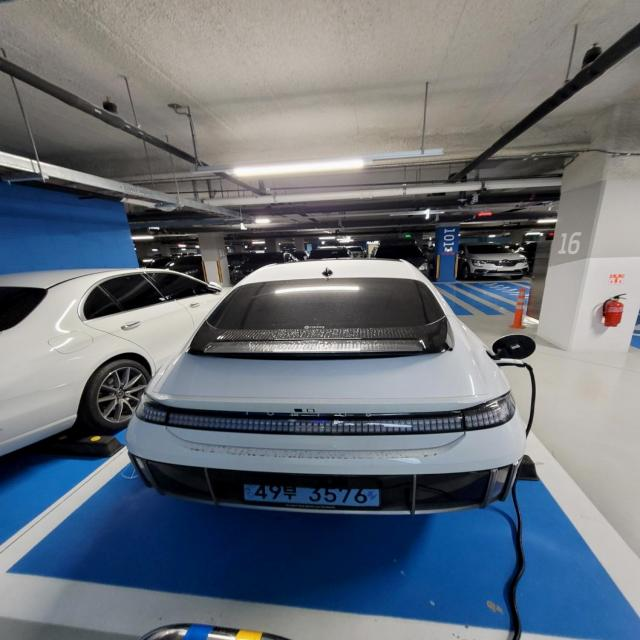EV_plate: (239, 480, 386, 516)
car: (128, 254, 540, 521)
